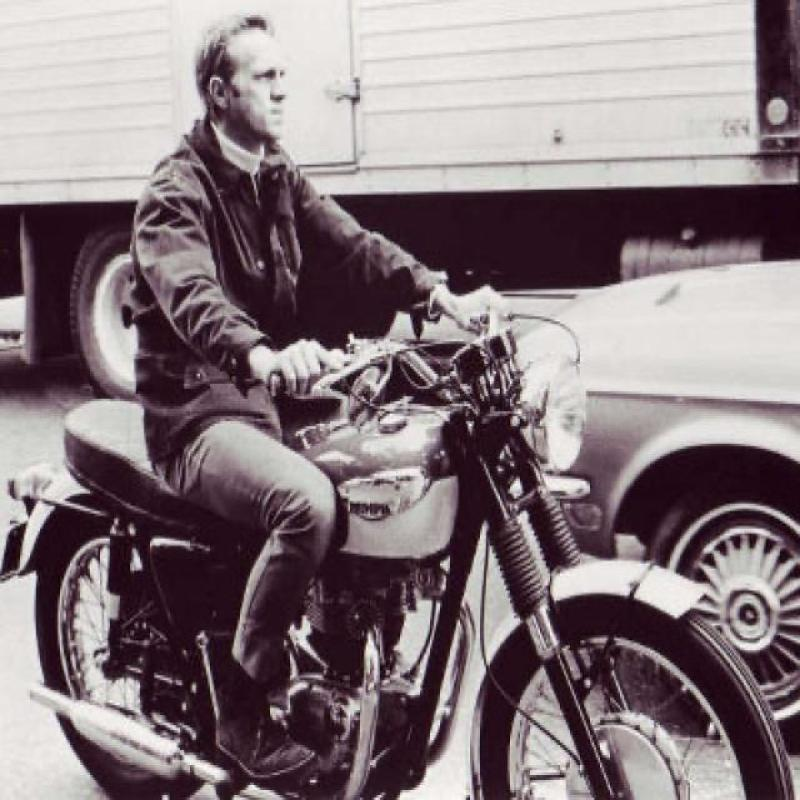nohelmet: (176, 1, 312, 176)
